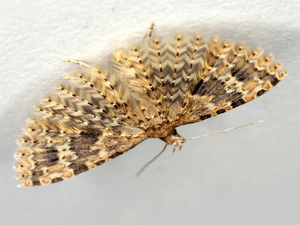Alucitidae: (7, 18, 287, 186)
moth: (8, 18, 288, 186)
